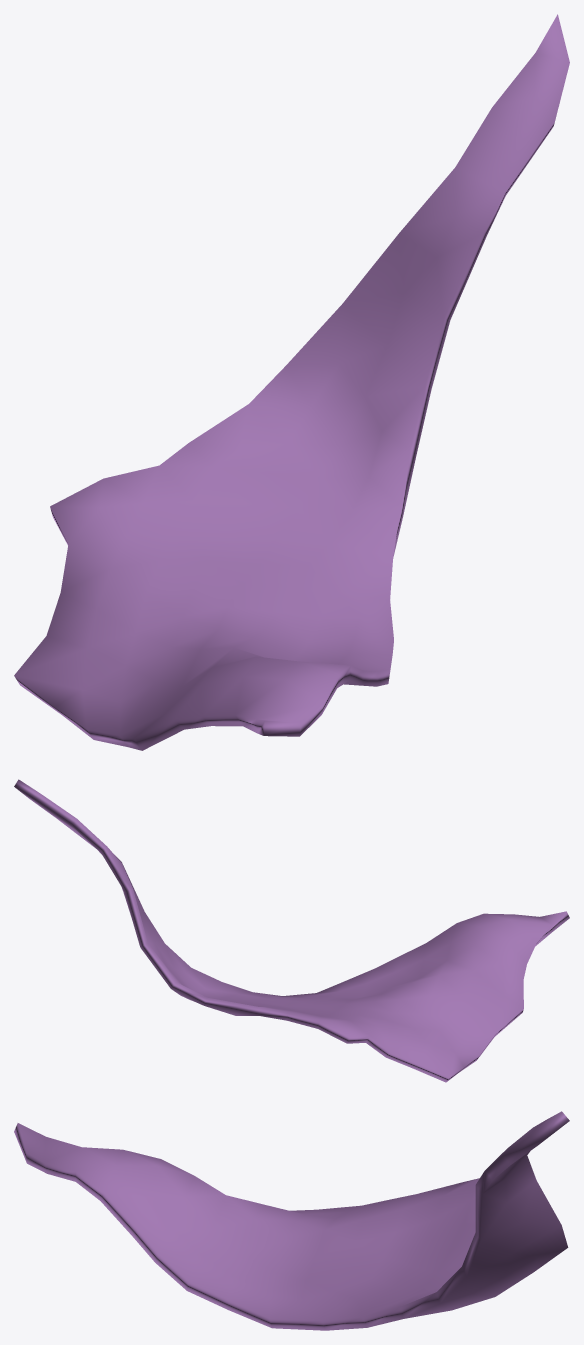
3 views of the same model, one above another, from view 1: azimuth 30°, elevation 25°; view 2: azimuth 150°, elevation 25°; view 3: azimuth 270°, elevation 25° (orthographic). The views are drawn at different scales.
Visible parts, largest first — view 1: 阑尾系膜; view 2: 阑尾系膜; view 3: 阑尾系膜.
Part boxes in pixels (bbox=[...]): 阑尾系膜: bbox=[14, 14, 569, 750]; 阑尾系膜: bbox=[14, 779, 569, 1082]; 阑尾系膜: bbox=[14, 1111, 569, 1330].
Bounding box in the file's own units: 0.073 × 0.0485 × 0.0648.
